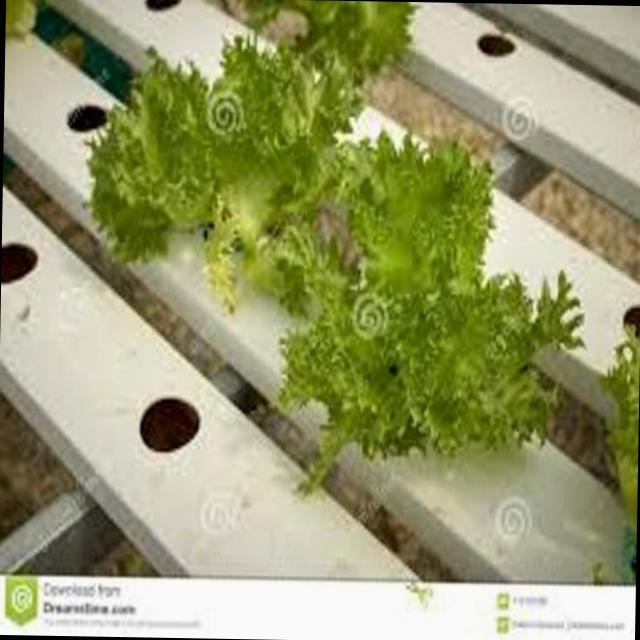Lettuce-Ready-to-Harvest: (279, 136, 581, 489), (89, 37, 361, 312), (222, 0, 414, 84), (606, 334, 640, 527)
